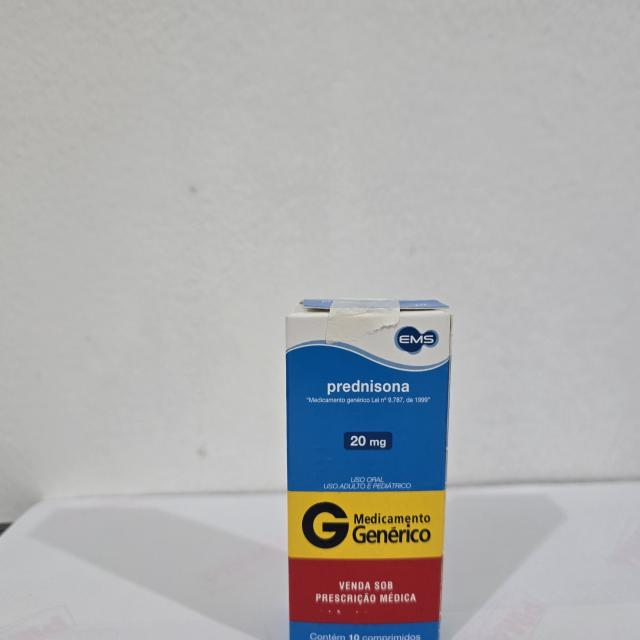prednisona: (281, 294, 456, 640)
